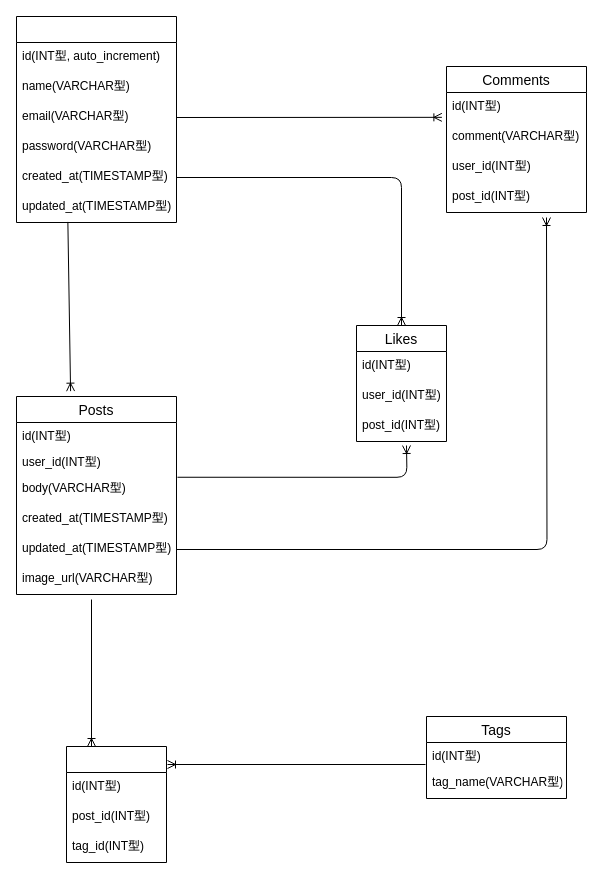
Some shapes in this 603 by 879 pixel diagram are drawn without their labels. Each missing label, with the box of its shape:
Post_tag: (66, 746, 166, 862)
Users: (16, 16, 176, 222)
